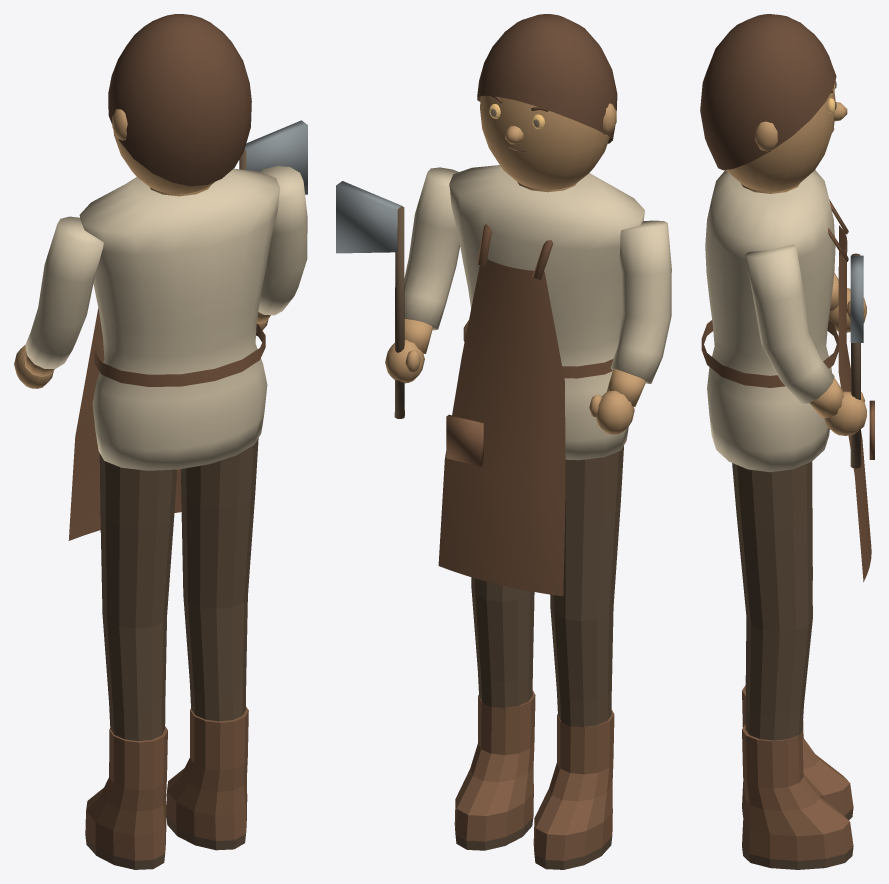
The model's file is SM_NPC_ROCKY.glb.
3 views of the same model, side by side, from view 1: azimuth 30°, elevation 25°; view 2: azimuth 150°, elevation 25°; view 3: azimuth 270°, elevation 25° (orthographic). The views are drawn at different scales.
Parts seen in each view (by area): view 1: SM_NPC_ROCKY_BODY, SM_NPC_ROCKY_LEG_L, SM_NPC_ROCKY_LEG_R, SM_NPC_ROCKY_HAIR, SM_NPC_ROCKY_ARM_L, SM_NPC_ROCKY_ARM_R, SM_NPC_ROCKY_HEAD; view 2: SM_NPC_ROCKY_BODY, SM_NPC_ROCKY_LEG_L, SM_NPC_ROCKY_LEG_R, SM_NPC_ROCKY_ARM_R, SM_NPC_ROCKY_HAIR, SM_NPC_ROCKY_ARM_L, SM_NPC_ROCKY_HEAD; view 3: SM_NPC_ROCKY_BODY, SM_NPC_ROCKY_LEG_R, SM_NPC_ROCKY_HAIR, SM_NPC_ROCKY_ARM_R, SM_NPC_ROCKY_HEAD, SM_NPC_ROCKY_LEG_L, SM_NPC_ROCKY_ARM_L.
Part boxes in pixels (x1,y1,x2,y2): SM_NPC_ROCKY_BODY: [68, 168, 279, 540]; SM_NPC_ROCKY_LEG_L: [85, 453, 176, 869]; SM_NPC_ROCKY_LEG_R: [166, 438, 258, 850]; SM_NPC_ROCKY_HAIR: [108, 14, 251, 186]; SM_NPC_ROCKY_ARM_L: [14, 216, 103, 388]; SM_NPC_ROCKY_ARM_R: [239, 120, 307, 330]; SM_NPC_ROCKY_HEAD: [112, 91, 250, 193]; SM_NPC_ROCKY_BODY: [438, 165, 644, 596]; SM_NPC_ROCKY_LEG_L: [533, 446, 623, 869]; SM_NPC_ROCKY_LEG_R: [454, 577, 535, 850]; SM_NPC_ROCKY_ARM_R: [336, 167, 460, 418]; SM_NPC_ROCKY_HAIR: [477, 14, 617, 143]; SM_NPC_ROCKY_ARM_L: [589, 220, 671, 434]; SM_NPC_ROCKY_HEAD: [480, 95, 616, 189]; SM_NPC_ROCKY_BODY: [701, 170, 874, 581]; SM_NPC_ROCKY_LEG_R: [732, 461, 853, 869]; SM_NPC_ROCKY_HAIR: [700, 14, 836, 170]; SM_NPC_ROCKY_ARM_R: [744, 244, 866, 468]; SM_NPC_ROCKY_HEAD: [726, 87, 847, 191]; SM_NPC_ROCKY_LEG_L: [742, 461, 853, 819]; SM_NPC_ROCKY_ARM_L: [828, 272, 866, 332].
Size of the model in its own units: 0.6861 by 1.81 by 0.3511.
